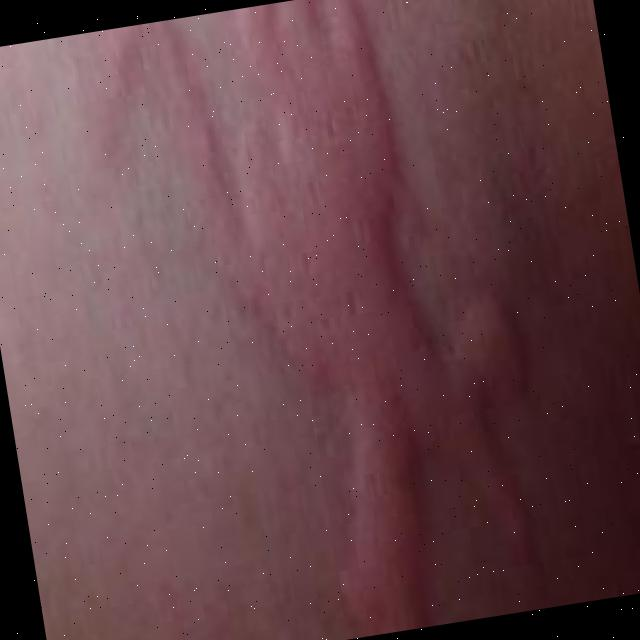sinek: (1, 1, 600, 640)
